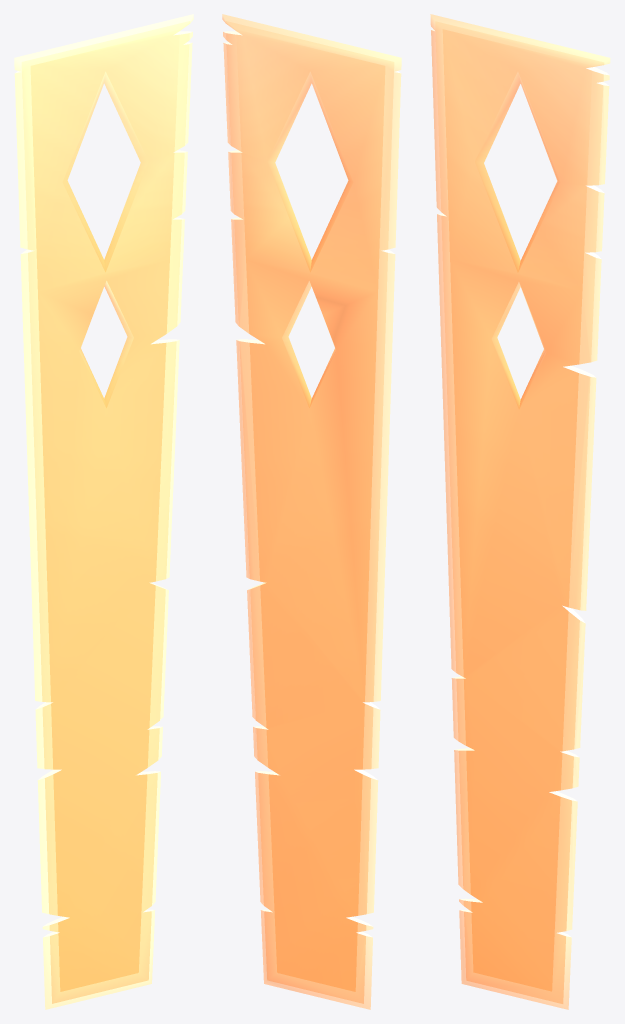
Rendered from wood_blade_scratched_081.glb.
3 renders of one model, left to right at view 1: azimuth 30°, elevation 25°; view 2: azimuth 150°, elevation 25°; view 3: azimuth 330°, elevation 25°, orthographic.
Parts seen in each view (by area): view 1: wood_blade_scratched.081; view 2: wood_blade_scratched.081; view 3: wood_blade_scratched.081.
Boxes of the visible parts, x1,y1,x2,y2 form: wood_blade_scratched.081: [14, 14, 193, 1009]; wood_blade_scratched.081: [222, 14, 401, 1009]; wood_blade_scratched.081: [430, 14, 610, 1009].
Bounding box in the file's own units: 2.19 × 11.21 × 0.0882.
Materials: 1 (1 with a texture image).
